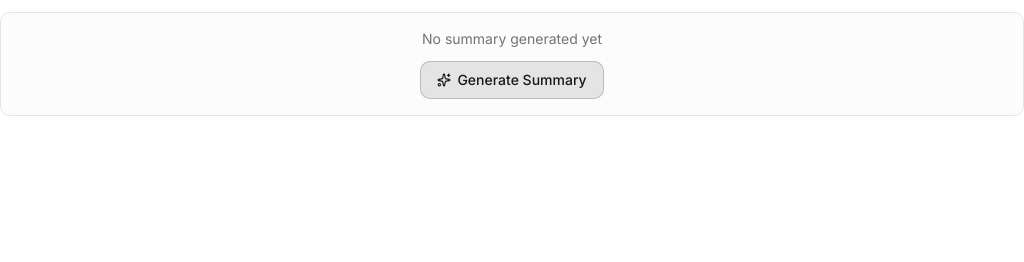
Test: SummarySection with structured summaryData (#304) › passes summaryData to onSummaryGenerated after Generate
What coordinates should you click on to do the following:
click the button "Generate Summary"
I would click on:
 (512, 80)
Its box is [420,61,604,99].
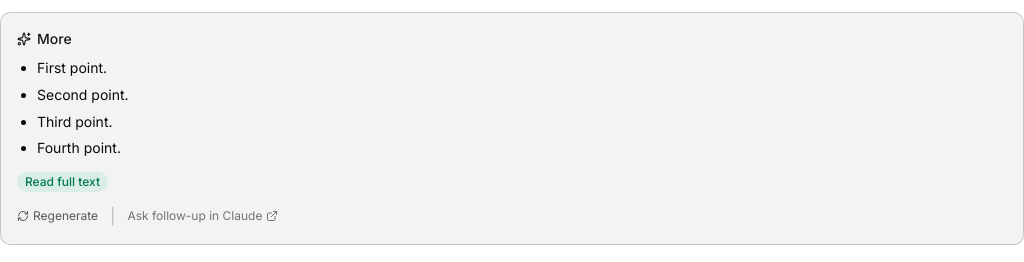
Now the list item "First point." is shown, box [37,59,107,76]
